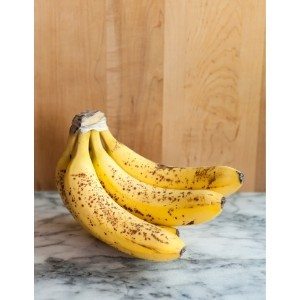banana_brain food: (60, 148, 204, 263)
